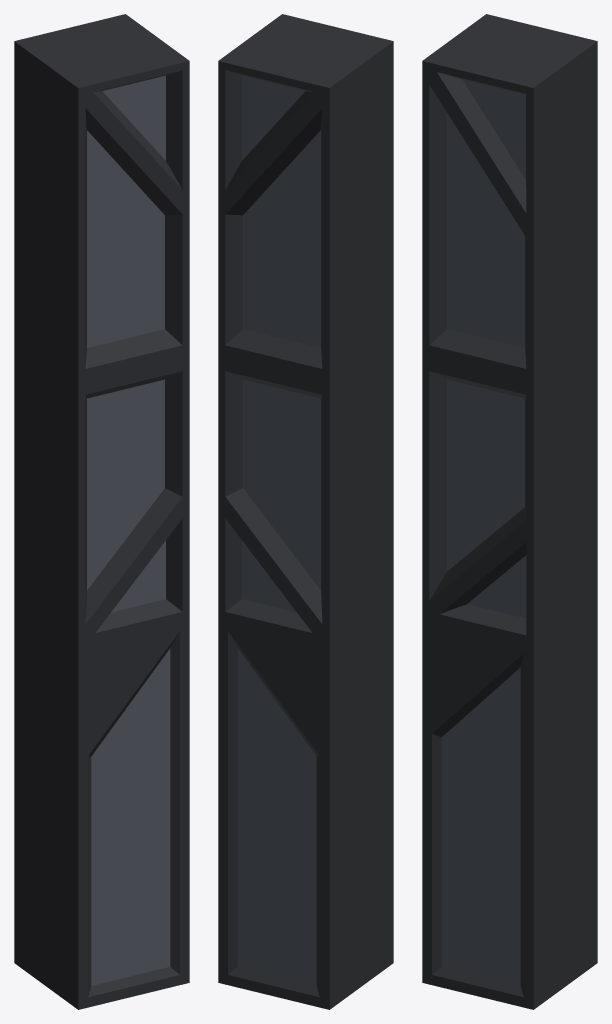
The model's file is SM_Pillar_for_the_conveyor-2m_variation_2.glb.
3 views of the same model, side by side, from view 1: azimuth 30°, elevation 25°; view 2: azimuth 150°, elevation 25°; view 3: azimuth 330°, elevation 25° (orthographic).
Visible parts, largest first — view 1: SM_Pillar_for_the_conveyor-2m_variation_2; view 2: SM_Pillar_for_the_conveyor-2m_variation_2; view 3: SM_Pillar_for_the_conveyor-2m_variation_2.
Part boxes in pixels (box(x1,y1,x2,y2)): SM_Pillar_for_the_conveyor-2m_variation_2: box(14, 14, 189, 1009); SM_Pillar_for_the_conveyor-2m_variation_2: box(218, 14, 393, 1009); SM_Pillar_for_the_conveyor-2m_variation_2: box(422, 14, 597, 1009).
Bounding box in the file's own units: 0.253 × 2 × 0.2523.
1 material, 1 textured.
